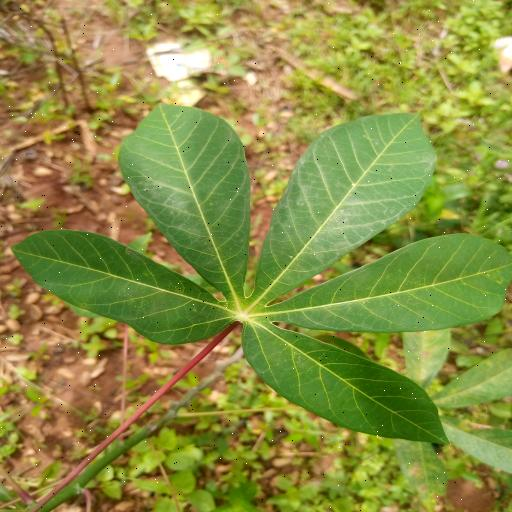Cassava_Healthy: (11, 97, 512, 450)
